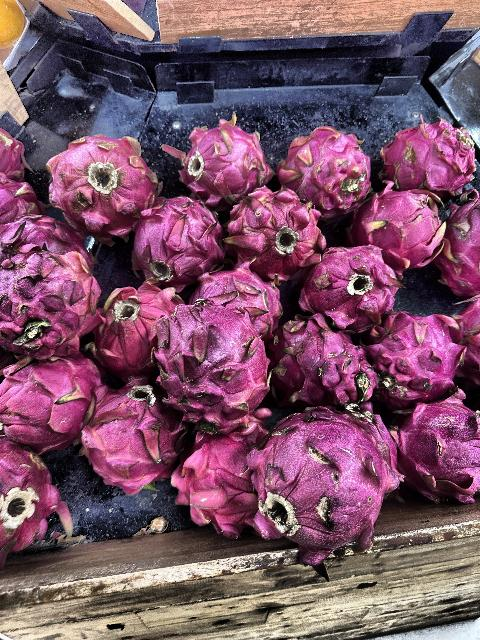buah-naga-matang: (262, 405, 404, 565), (151, 313, 269, 423), (80, 376, 186, 492), (0, 235, 102, 348), (272, 311, 386, 404), (172, 426, 262, 540), (0, 435, 74, 569), (273, 120, 375, 214), (394, 392, 480, 503), (46, 140, 156, 226), (0, 354, 98, 448), (164, 121, 276, 199), (362, 312, 462, 398), (92, 281, 182, 374), (134, 190, 224, 282), (379, 110, 477, 194), (302, 243, 406, 321), (227, 185, 319, 271), (356, 186, 440, 266), (197, 270, 285, 326), (438, 200, 480, 294)
